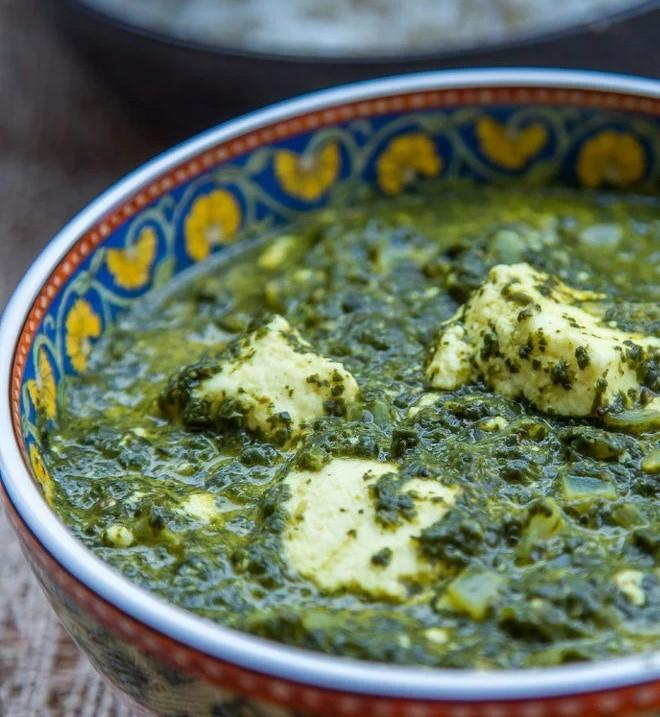PalakPaneer: (46, 181, 660, 672)
